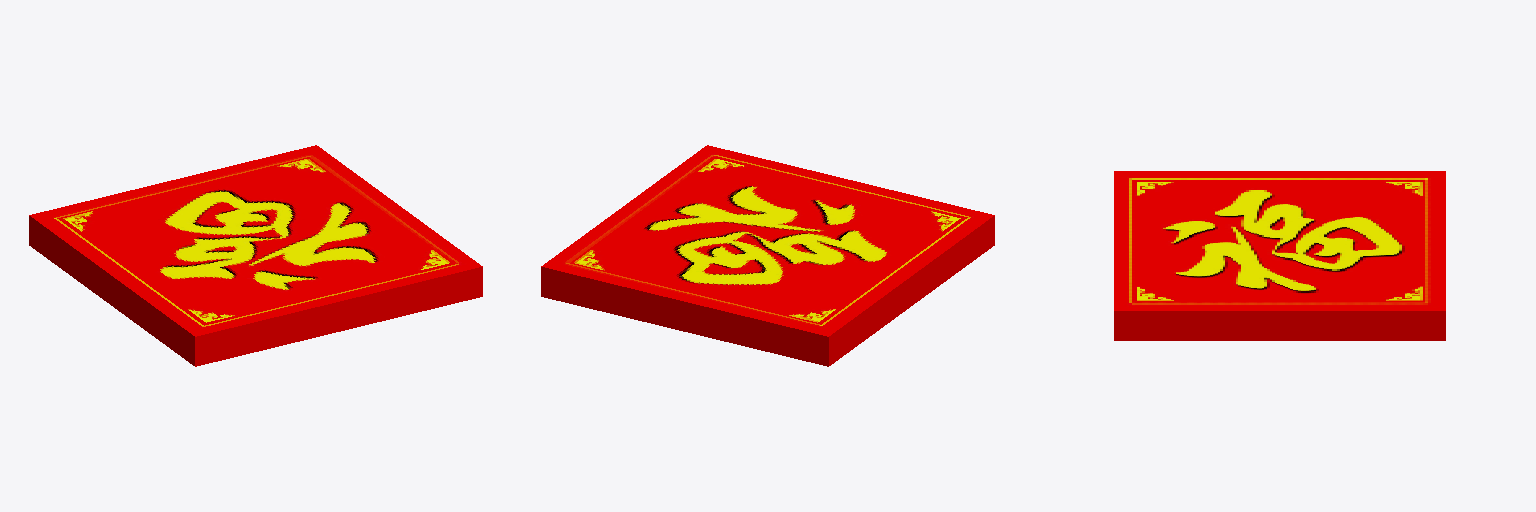
3 renders of one model, left to right at view 1: azimuth 30°, elevation 25°; view 2: azimuth 150°, elevation 25°; view 3: azimuth 270°, elevation 25°, orthographic.
Visible parts, largest first — view 1: Cube; view 2: Cube; view 3: Cube.
Part boxes in pixels (left/top/right/bottom): Cube: left=29, top=145, right=482, bottom=366; Cube: left=541, top=145, right=994, bottom=366; Cube: left=1114, top=171, right=1445, bottom=340.
Size of the model in its own units: 1 by 0.1 by 1.
Materials: 1 (1 with a texture image).